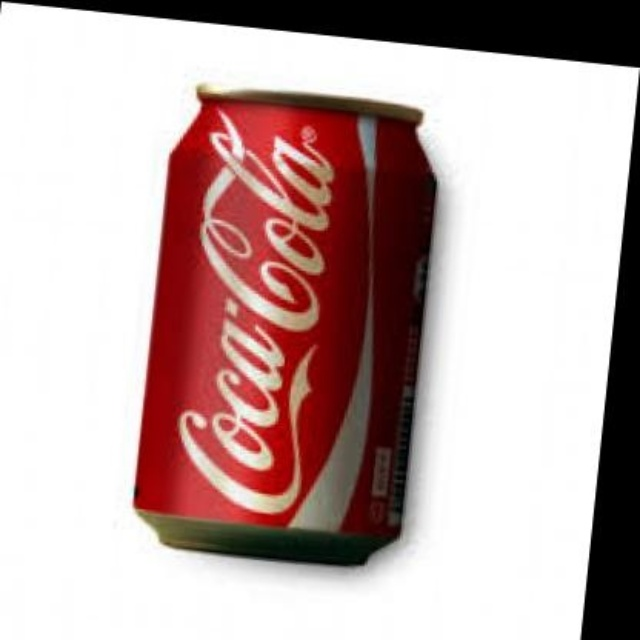trash: (134, 86, 434, 563)
